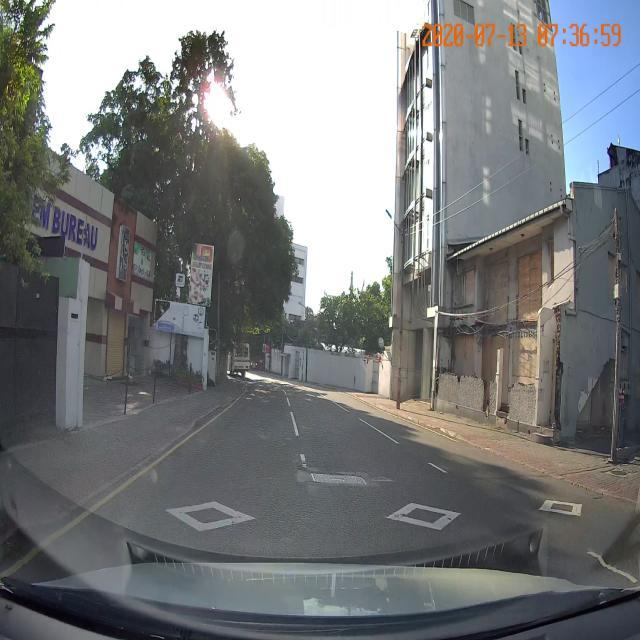diamond: (54, 459, 331, 563)
